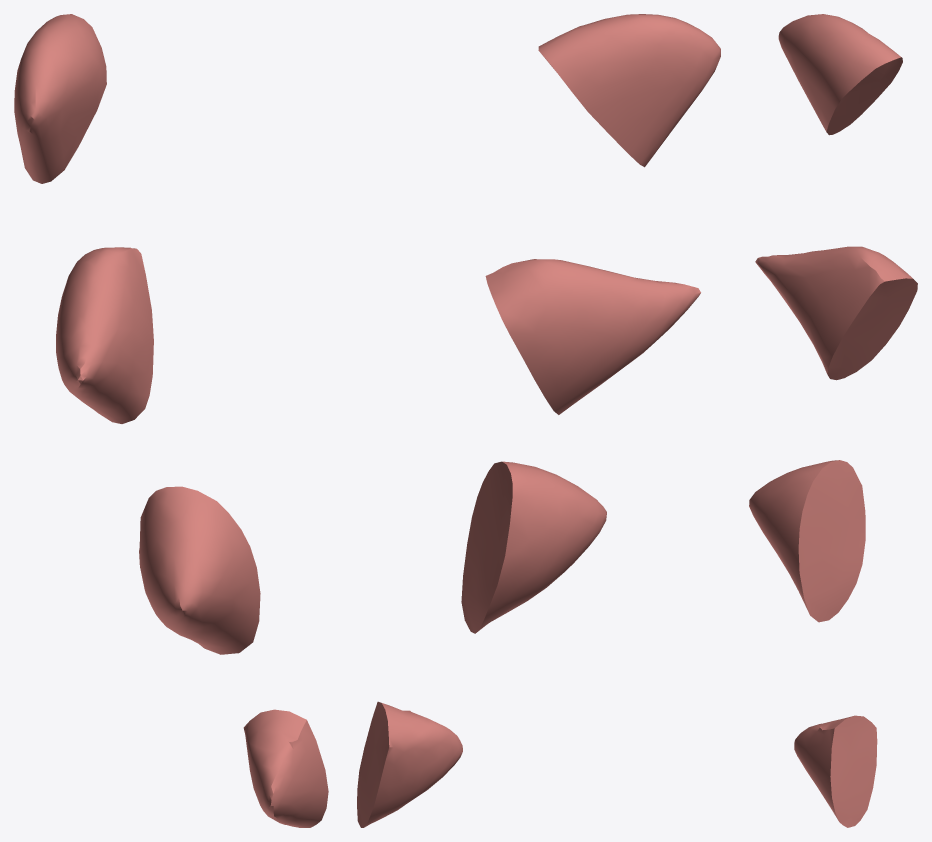
File: fma48730-f_mm4012m.glb
3 views of the same model, side by side, from view 1: azimuth 30°, elevation 25°; view 2: azimuth 150°, elevation 25°; view 3: azimuth 270°, elevation 25° (orthographic). The views are drawn at different scales.
Visible parts, largest first — view 1: FMA48730-F_MM4012M; view 2: FMA48730-F_MM4012M; view 3: FMA48730-F_MM4012M.
Boxes of the visible parts, left/top/right/bottom form: FMA48730-F_MM4012M: left=14, top=14, right=328, bottom=827; FMA48730-F_MM4012M: left=357, top=14, right=720, bottom=827; FMA48730-F_MM4012M: left=749, top=14, right=917, bottom=827.
Bounding box in the file's own units: 0.0373 × 0.0929 × 0.0202.
